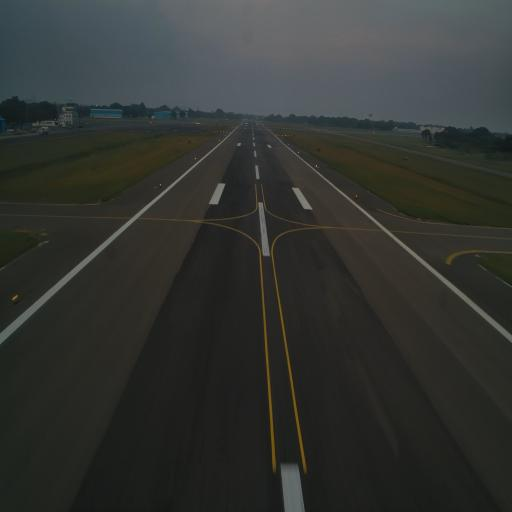on: (10, 290, 19, 303), (315, 163, 318, 170), (159, 183, 162, 187), (194, 156, 197, 160), (356, 193, 358, 198)
